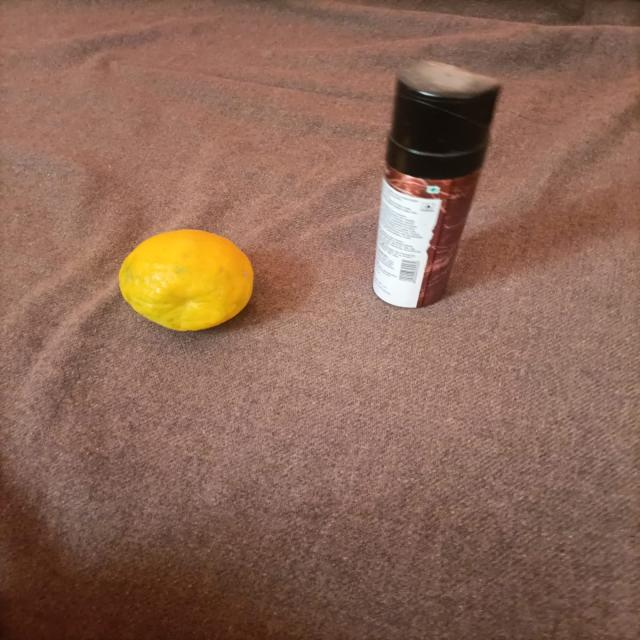orange: (100, 225, 279, 346)
spray: (348, 38, 540, 333)
